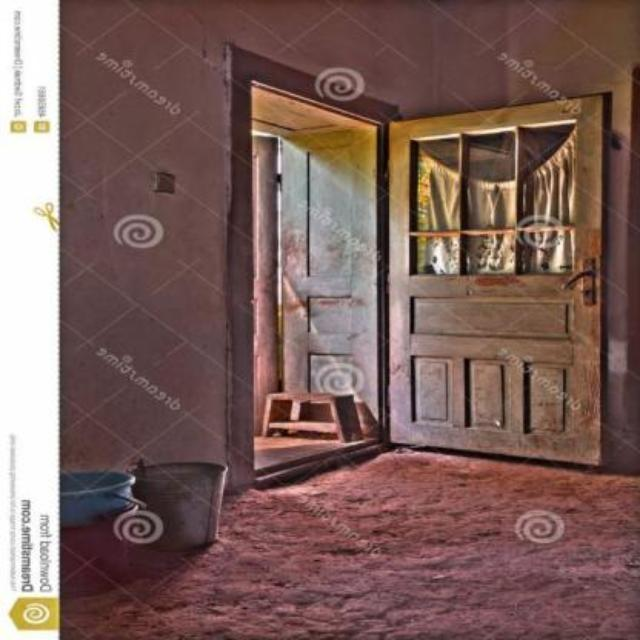door: (386, 90, 608, 467)
